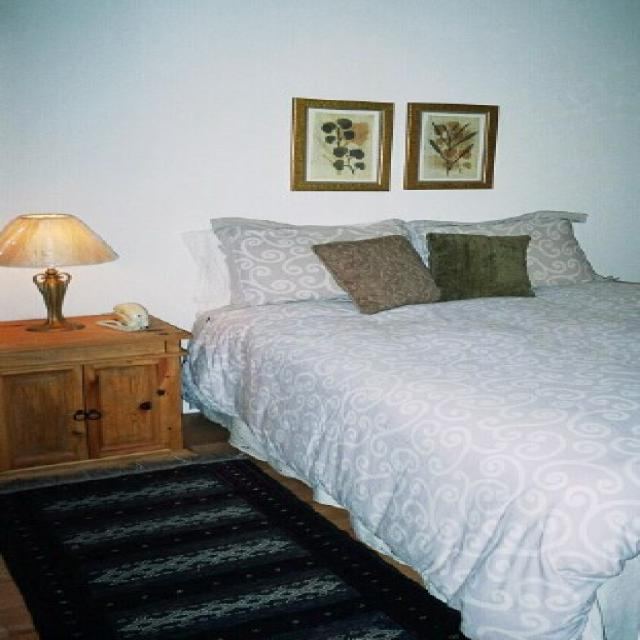bed frame: (181, 208, 634, 638)
carpet floor: (2, 452, 463, 638)
cushion occluded: (311, 232, 442, 312), (426, 232, 529, 301)
floor -X: (2, 362, 632, 638)
lamp crop: (2, 211, 117, 330)
night tablr: (2, 309, 195, 479)
picture crop: (290, 98, 389, 190), (403, 101, 498, 189)
telephone booth: (99, 300, 148, 330)
wall clock: (2, 2, 634, 430)
